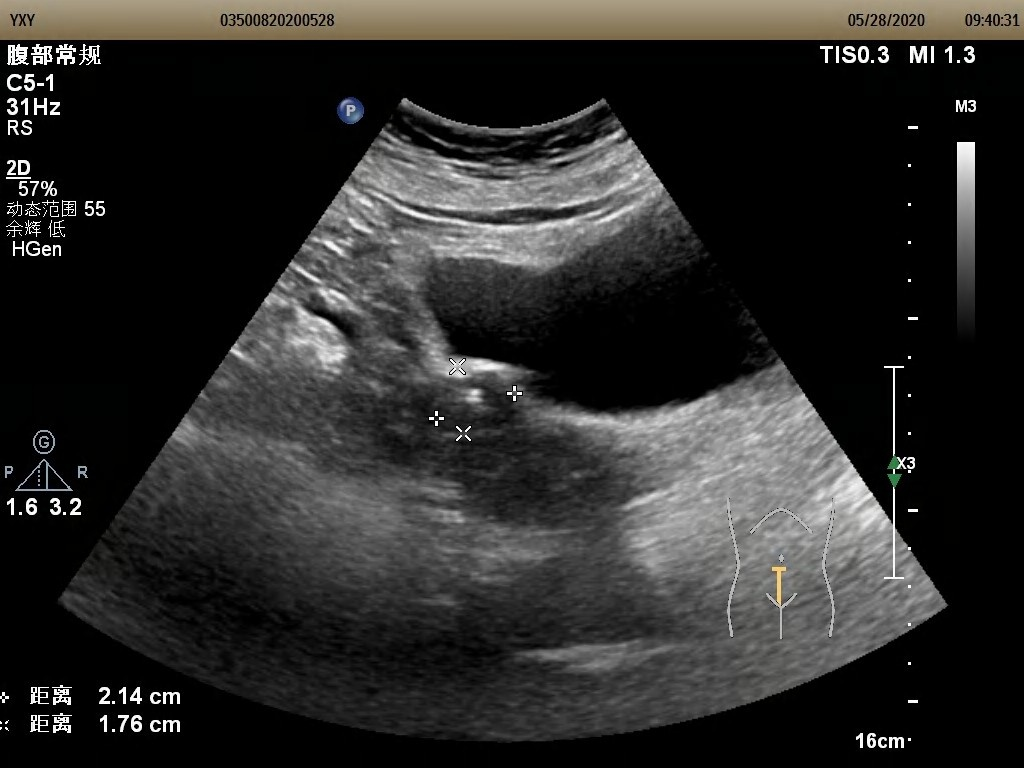肌瘤: (433, 371, 515, 433)
